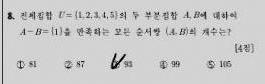choice: (109, 53, 122, 71)
not-choice: (157, 59, 169, 71), (62, 59, 74, 70), (15, 60, 26, 70), (206, 59, 215, 70)
